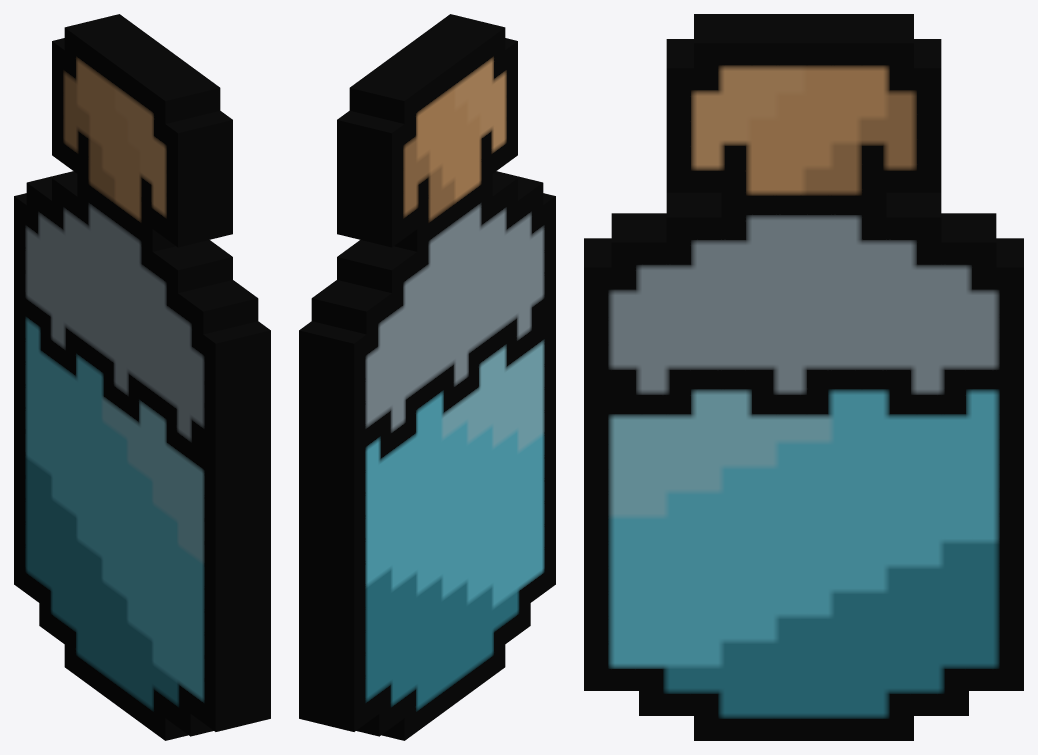
The model's file is 016-Equipment_MediumManaPotion.fbx.
The picture shows the model from 3 angles, left to right: view 1: azimuth 30°, elevation 25°; view 2: azimuth 150°, elevation 25°; view 3: azimuth 270°, elevation 25°; orthographic projection. The views are drawn at different scales.
Visible parts, largest first — view 1: Equipments16; view 2: Equipments16; view 3: Equipments16.
Boxes of the visible parts, x1=… form: Equipments16: x1=14, y1=14, x2=270, y2=740; Equipments16: x1=299, y1=14, x2=555, y2=740; Equipments16: x1=584, y1=14, x2=1023, y2=740.
Size of the model in its own units: 0.045 by 0.5 by 0.2857.
Materials: 1 (1 with a texture image).
